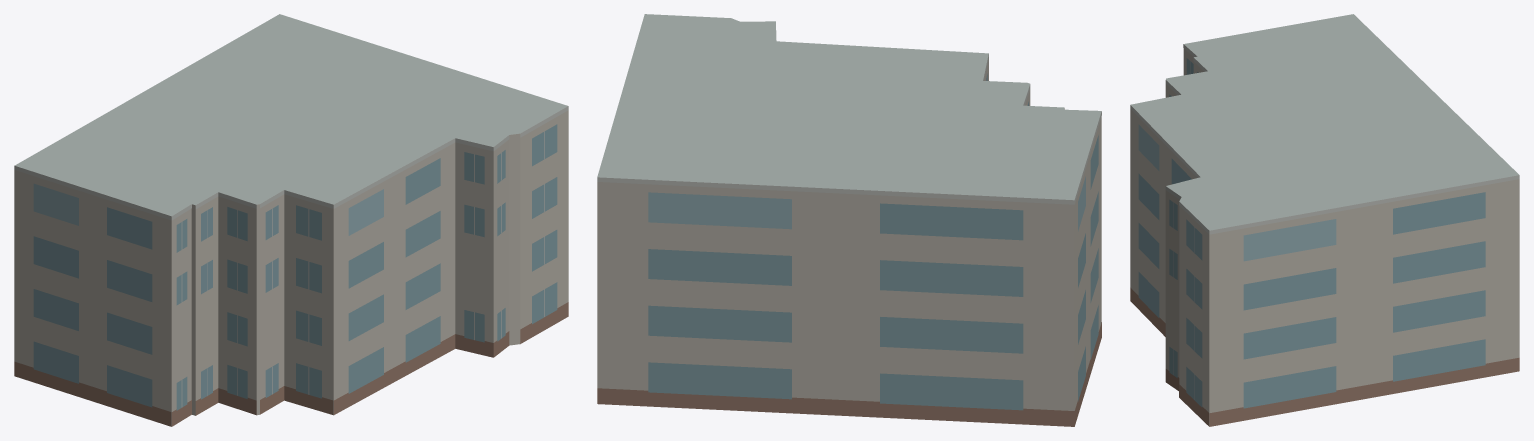
The model's file is survey-upis-32600944.glb.
3 renders of one model, left to right at view 1: azimuth 30°, elevation 25°; view 2: azimuth 150°, elevation 25°; view 3: azimuth 270°, elevation 25°, orthographic. The views are drawn at different scales.
Parts seen in each view (by area): view 1: survey-upis-32600944.tmp; view 2: survey-upis-32600944.tmp; view 3: survey-upis-32600944.tmp.
Boxes of the visible parts, <box> form: survey-upis-32600944.tmp: <box>14,14,568,426</box>; survey-upis-32600944.tmp: <box>597,14,1101,426</box>; survey-upis-32600944.tmp: <box>1130,14,1519,426</box>.
Bounding box in the file's own units: 28.91 × 12.2 × 21.95.
